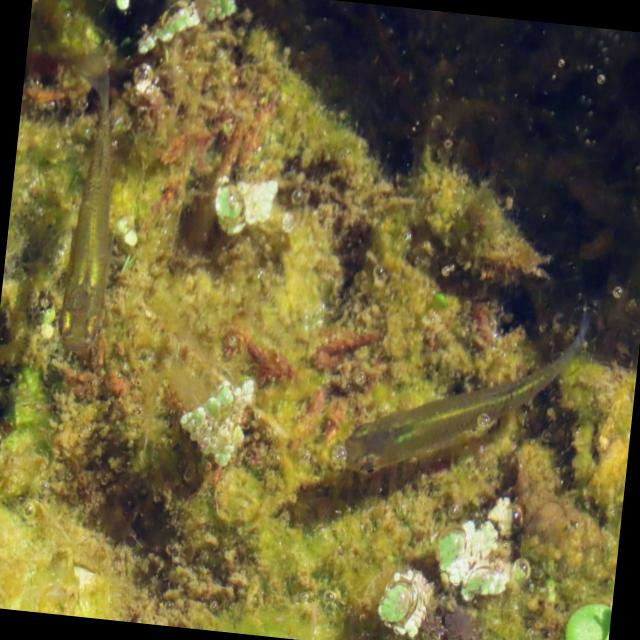Sivrisinek Baligi: (332, 293, 592, 497), (52, 58, 130, 360)
